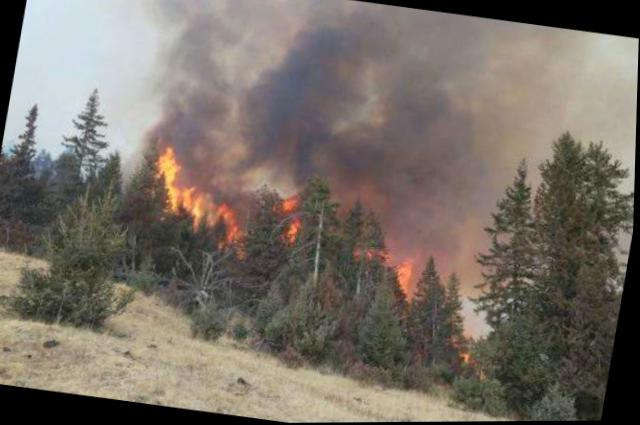fire: (140, 145, 313, 265), (361, 240, 425, 299), (461, 347, 480, 366)
